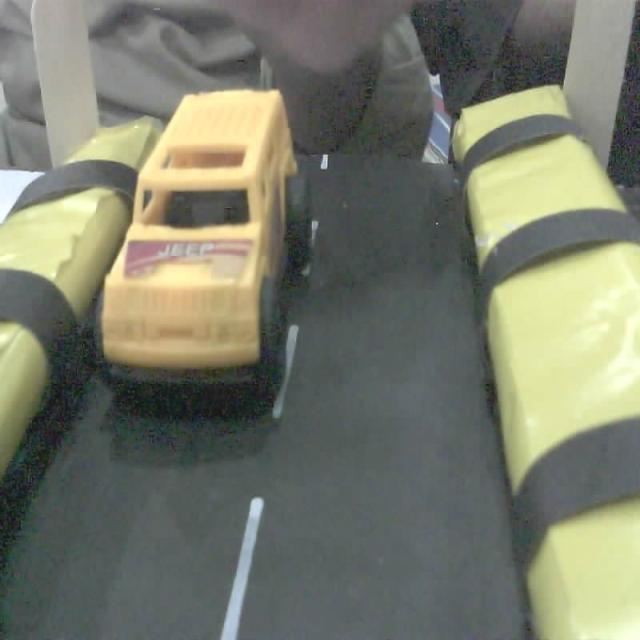TwoCar: (96, 58, 309, 418)
